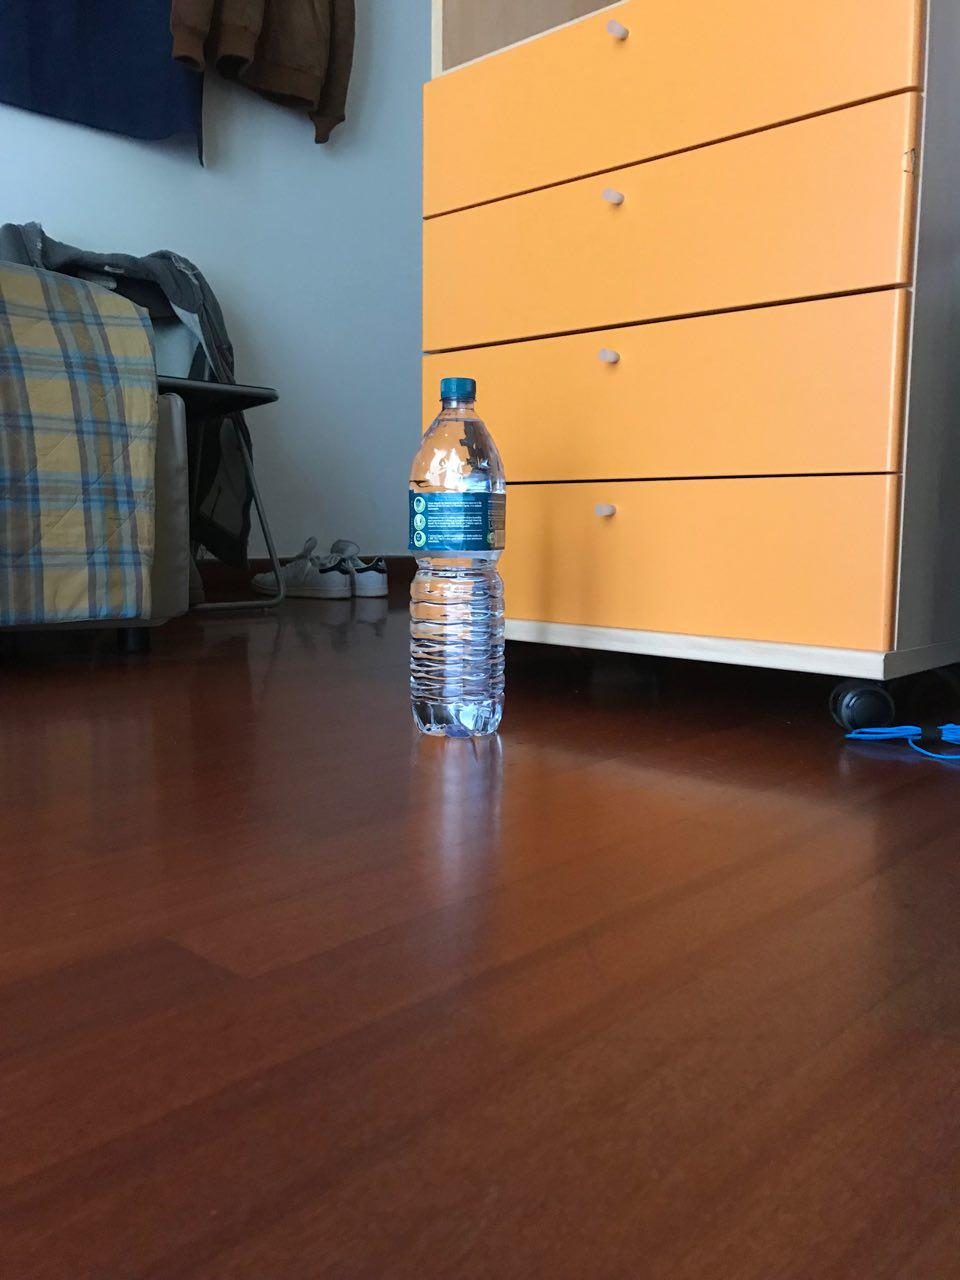san_bernardo: (407, 375, 508, 742)
